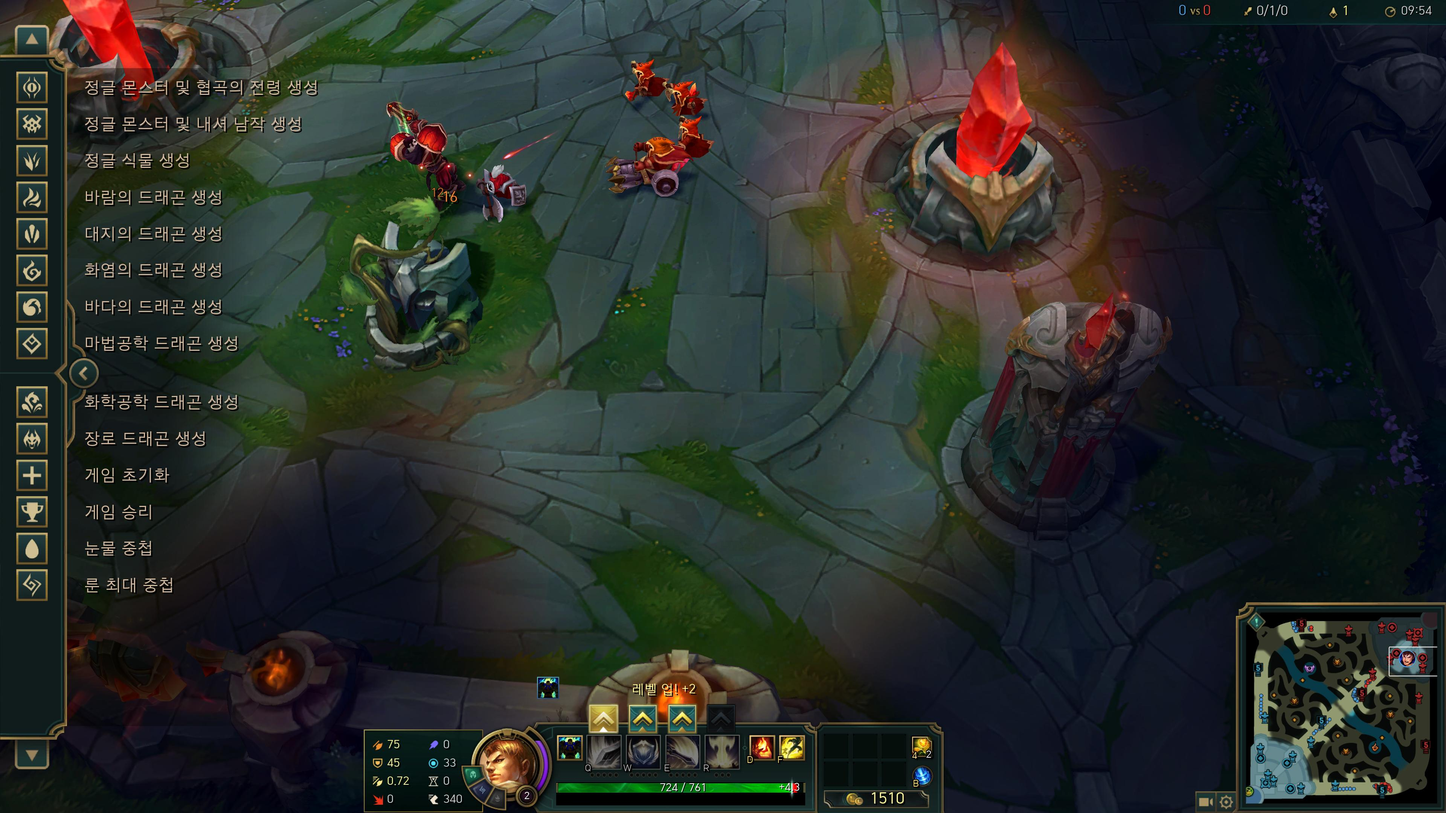enemy-caster-minion: (624, 56, 669, 101), (679, 115, 714, 156), (668, 79, 706, 114)
enemy-inhibitor: (848, 45, 1107, 287)
enemy-melee-minion: (475, 161, 526, 220)
enemy-siege-minion: (607, 136, 691, 195)
enemy-tower: (943, 292, 1174, 545)
